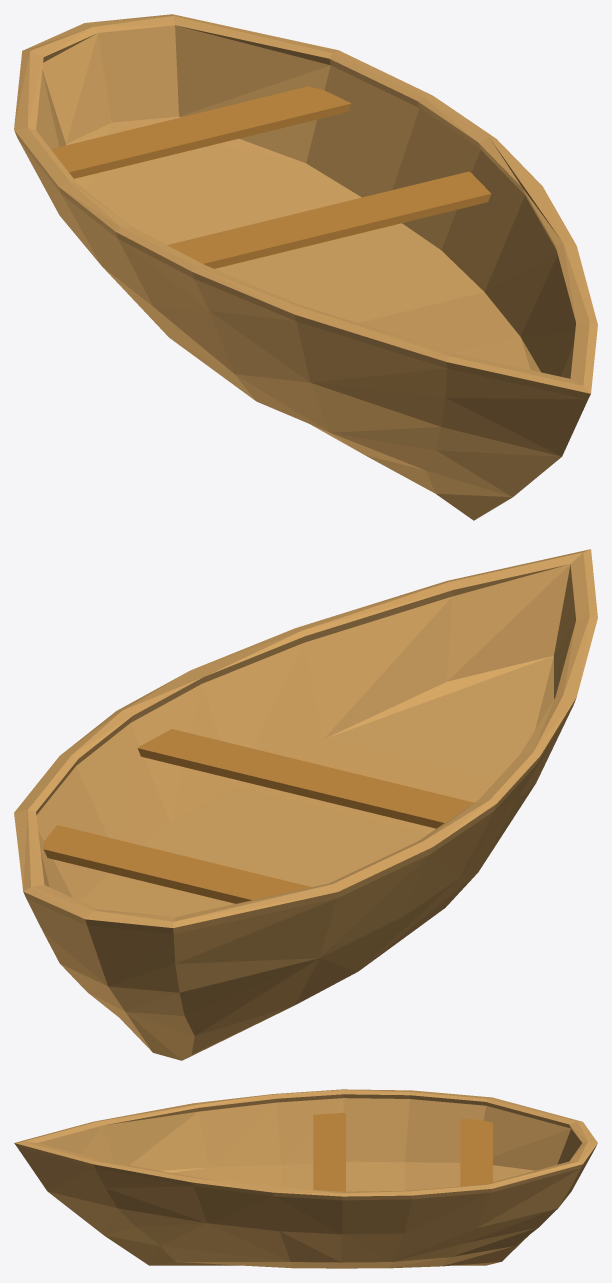
Rendered from rowboat_01_c.fbx.
3 views of the same model, one above another, from view 1: azimuth 30°, elevation 25°; view 2: azimuth 150°, elevation 25°; view 3: azimuth 270°, elevation 25° (orthographic). The views are drawn at different scales.
Parts seen in each view (by area): view 1: RowBoat_01_c; view 2: RowBoat_01_c; view 3: RowBoat_01_c.
Part boxes in pixels (<box>): RowBoat_01_c: <box>14,14,597,520</box>; RowBoat_01_c: <box>14,549,597,1060</box>; RowBoat_01_c: <box>14,1089,597,1268</box>.
Size of the model in its own units: 65.82 by 152 by 35.5.
